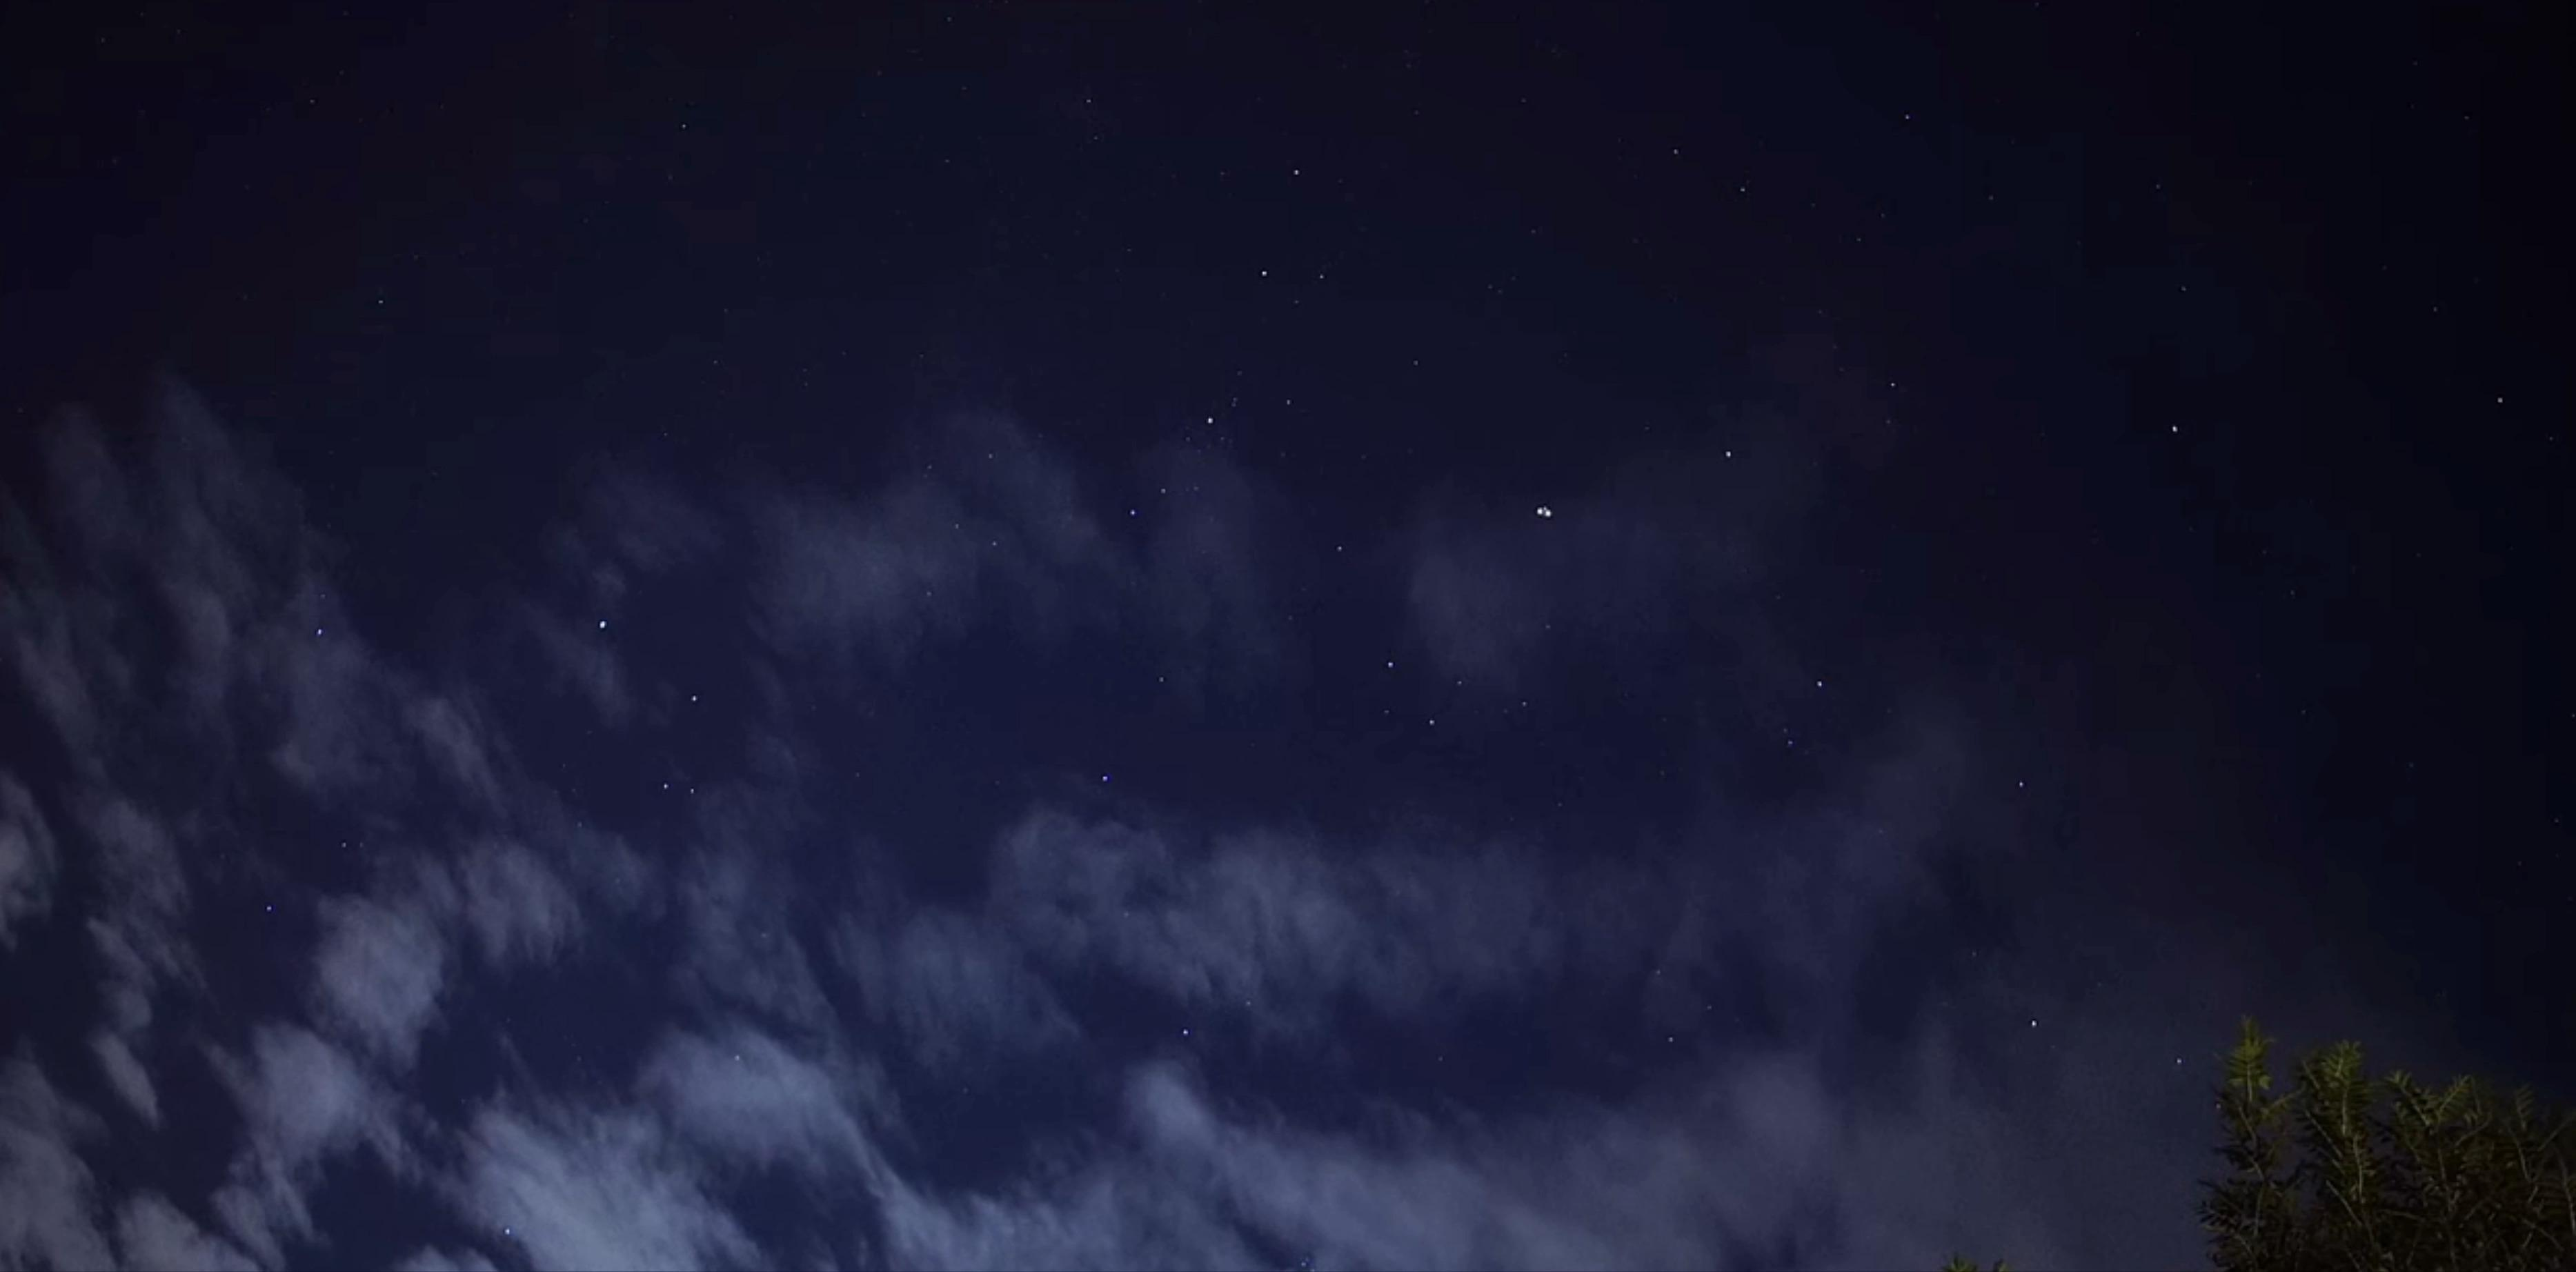Plane: (1516, 495, 1582, 529)
